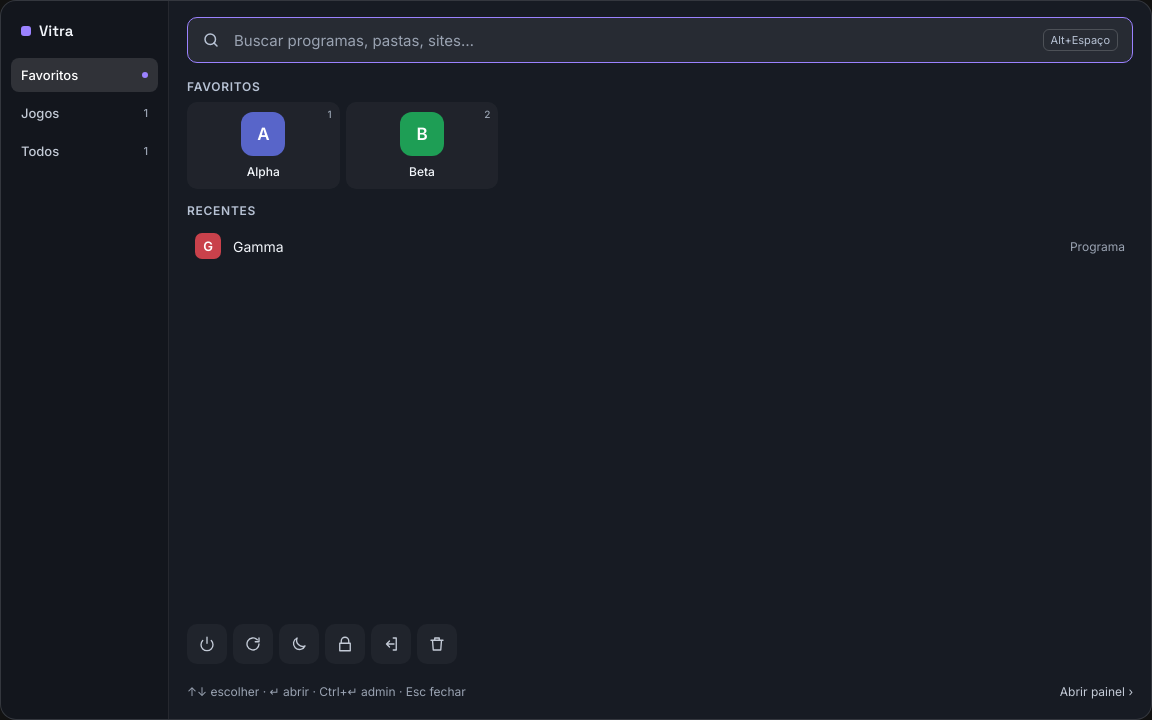
Scenario: QuickLauncher com itens › Todos mostra descobertos sem os escondidos
The width and height of the screenshot is (1152, 720).
Click the button "Todos 1". click: (84, 151)
box: [11,134,158,168]
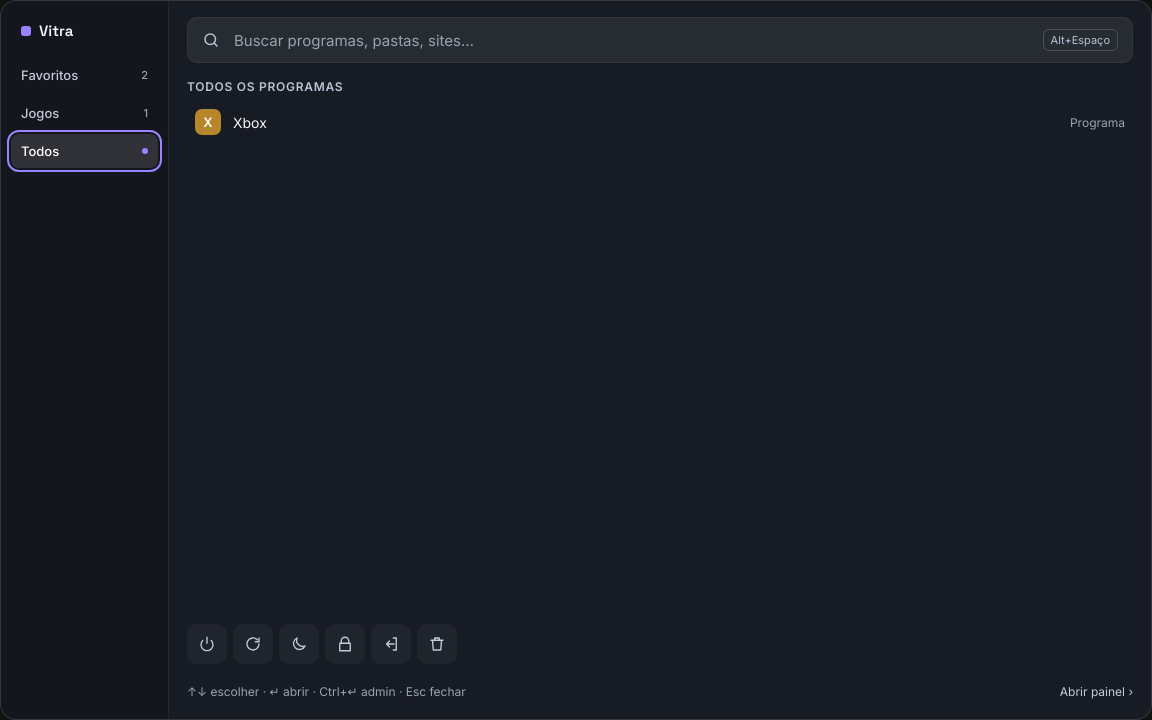
Check: the button "X Xbox Programa" is shown, box [187,102,1133,142]
